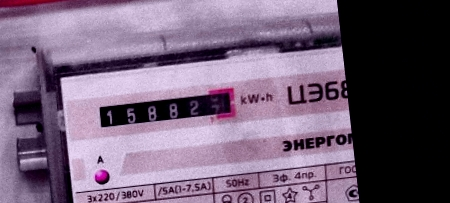1: (103, 107, 114, 124)
2: (187, 97, 199, 115)
5: (124, 105, 136, 122)
7: (209, 102, 220, 114)
8: (166, 100, 178, 118), (145, 104, 157, 121)
screen: (90, 81, 242, 137)
